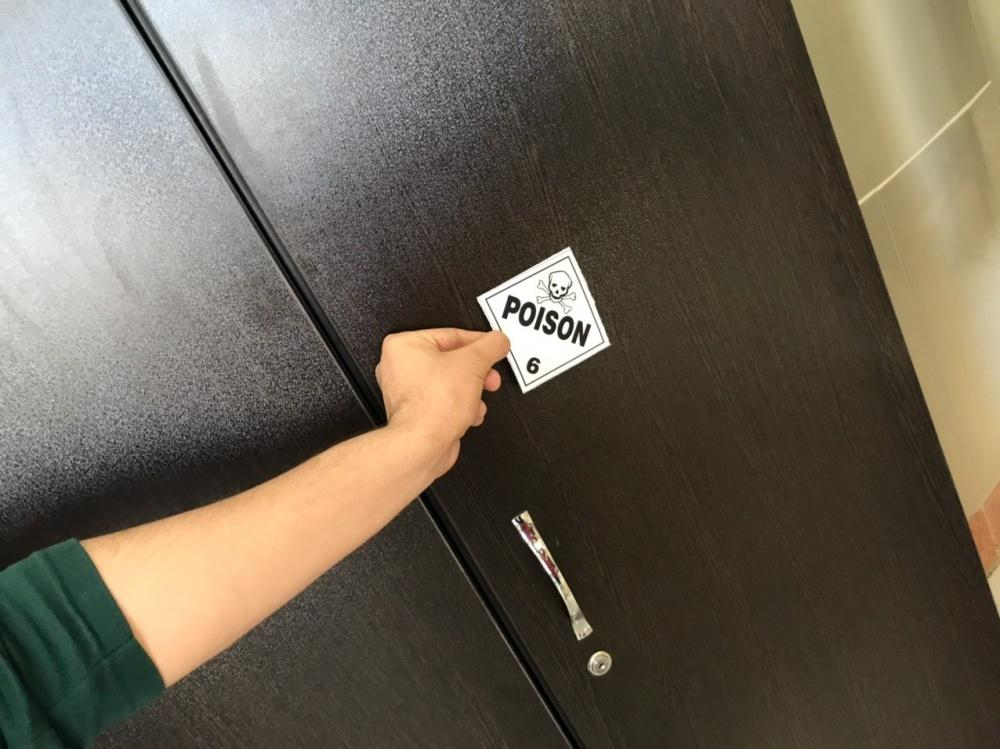poison: (481, 252, 607, 387)
